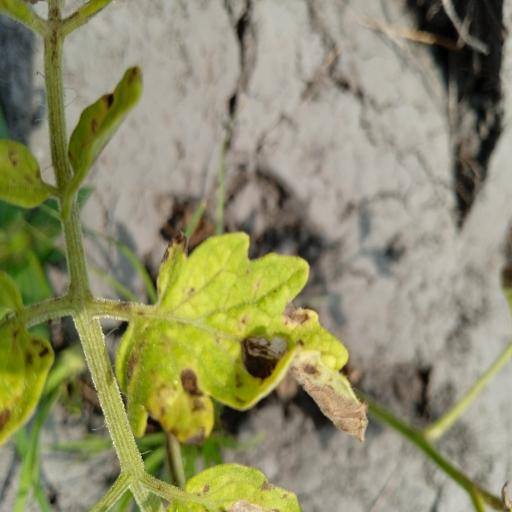Tomato_Brown_Spots: (120, 230, 378, 455)
